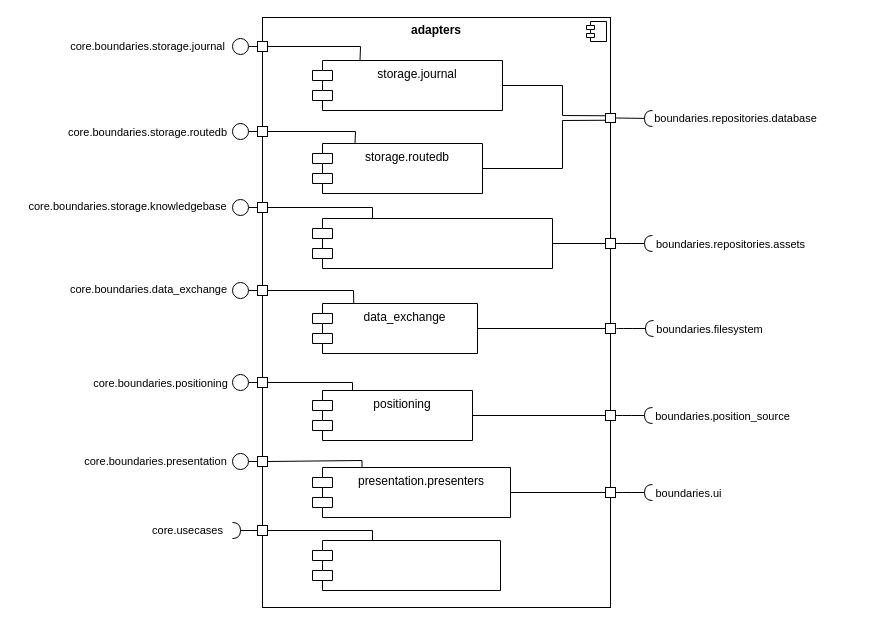
The diagram is 869 pixels wide and 625 high, and some of its shapes have lost their labels. The shapes that lost their labels are listed below. From the top down, each one's centre as x and y in pixels, then its label:
point 432,243: storage.knowledgebase
point 406,565: presentation.controllers
